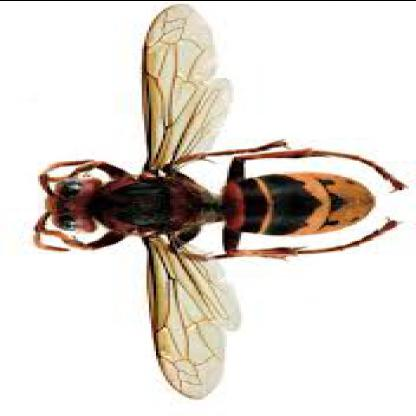asian: (31, 8, 409, 400)
